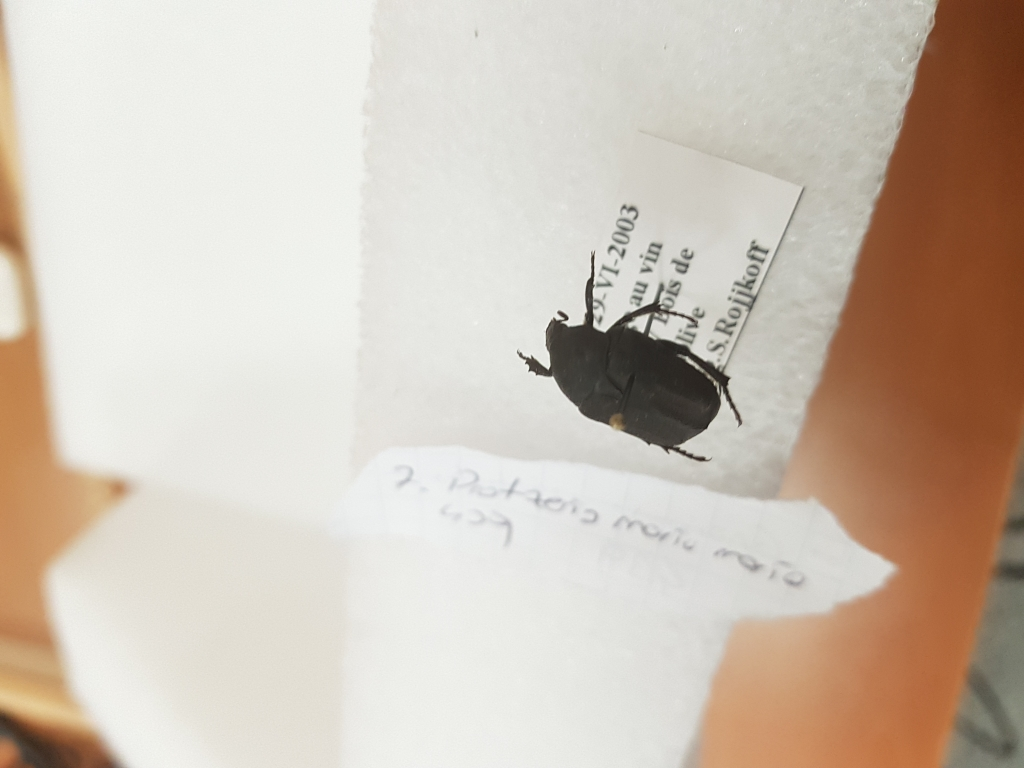Protaetia_morio_morio: (513, 242, 751, 468)
